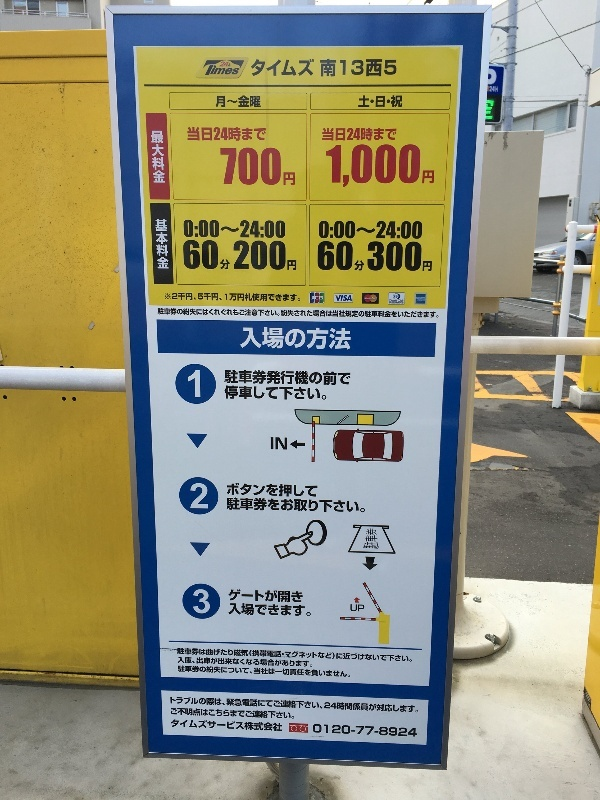text: (337, 144, 352, 189), (353, 144, 368, 189), (369, 144, 384, 189), (385, 144, 400, 189), (401, 144, 416, 189), (225, 148, 240, 186), (241, 148, 256, 186), (257, 148, 272, 186), (337, 240, 353, 272), (151, 130, 160, 184), (321, 240, 336, 272), (369, 241, 384, 272), (385, 241, 400, 272), (401, 241, 416, 272), (337, 325, 353, 354), (193, 240, 208, 270), (241, 240, 256, 270), (257, 240, 272, 270), (241, 325, 256, 354), (257, 325, 272, 354), (273, 325, 288, 354), (289, 325, 304, 354), (305, 325, 320, 354), (321, 325, 336, 354), (161, 218, 169, 270), (327, 144, 336, 189), (193, 483, 208, 510), (273, 240, 286, 270), (194, 588, 208, 615), (273, 148, 281, 186), (257, 58, 272, 78), (273, 58, 288, 78), (289, 58, 304, 78), (305, 58, 320, 78), (321, 58, 336, 78), (337, 58, 352, 78), (353, 58, 368, 78), (369, 58, 384, 78), (193, 368, 202, 401), (193, 220, 208, 239), (209, 220, 224, 239), (225, 220, 240, 239), (241, 220, 256, 239), (257, 220, 272, 239), (321, 221, 336, 240), (337, 221, 352, 240), (353, 221, 368, 240), (369, 221, 384, 240), (385, 221, 400, 240), (401, 221, 416, 240), (161, 130, 166, 184), (183, 240, 192, 270), (209, 240, 218, 270), (241, 497, 256, 515), (257, 497, 272, 515), (273, 497, 288, 515), (289, 497, 304, 515), (305, 497, 320, 515), (321, 497, 336, 515), (337, 497, 352, 515), (177, 648, 192, 666), (193, 648, 208, 666), (209, 648, 224, 666), (225, 648, 240, 666), (241, 648, 256, 666), (257, 648, 272, 666), (273, 648, 288, 666), (289, 648, 304, 666), (305, 648, 320, 666), (321, 648, 336, 666), (337, 648, 352, 666), (353, 648, 368, 666), (369, 648, 384, 666), (385, 648, 400, 666), (155, 218, 160, 270), (209, 60, 224, 77), (225, 60, 240, 77), (225, 370, 240, 387), (241, 370, 256, 387), (257, 370, 272, 387), (273, 370, 288, 387), (289, 370, 304, 387), (305, 370, 320, 387), (321, 370, 336, 387), (225, 385, 240, 402), (241, 385, 256, 402), (257, 385, 272, 402), (273, 385, 288, 402), (289, 385, 304, 402), (305, 385, 320, 402), (241, 603, 256, 620), (257, 603, 272, 620), (273, 603, 288, 620), (289, 603, 304, 620), (369, 528, 380, 551), (273, 220, 286, 239), (385, 58, 397, 78), (193, 126, 208, 142), (209, 126, 224, 142), (225, 126, 240, 142), (241, 126, 256, 142), (241, 482, 256, 498), (257, 482, 272, 498), (273, 482, 288, 498), (289, 482, 304, 498), (177, 717, 192, 733), (193, 717, 208, 733), (209, 717, 224, 733), (225, 717, 240, 733), (241, 717, 256, 733), (257, 717, 272, 733), (321, 723, 336, 739), (337, 723, 352, 739), (353, 723, 368, 739), (369, 723, 384, 739), (385, 723, 400, 739), (401, 723, 416, 739), (337, 370, 351, 387), (227, 497, 240, 515), (353, 497, 366, 515), (273, 436, 288, 451), (241, 588, 256, 603), (257, 588, 272, 603), (273, 588, 288, 603), (289, 588, 304, 603), (177, 666, 192, 681), (193, 666, 208, 681), (209, 666, 224, 681), (225, 666, 240, 681), (241, 666, 256, 681), (257, 666, 272, 681), (273, 666, 288, 681), (289, 666, 304, 681), (305, 666, 320, 681), (321, 666, 336, 681), (401, 648, 413, 666), (337, 128, 352, 142), (353, 128, 368, 142), (369, 128, 384, 142), (233, 240, 240, 270), (337, 666, 351, 681), (241, 697, 256, 711), (257, 697, 272, 711), (273, 697, 288, 711), (289, 697, 304, 711), (305, 697, 320, 711), (177, 707, 192, 721), (193, 707, 208, 721), (209, 707, 224, 721), (225, 707, 240, 721), (241, 707, 256, 721), (257, 707, 272, 721), (273, 707, 288, 721), (227, 482, 240, 498), (305, 482, 318, 498), (322, 128, 336, 142), (225, 95, 240, 108), (241, 95, 256, 108), (337, 701, 352, 714), (353, 701, 368, 714), (369, 701, 384, 714), (385, 701, 400, 714), (401, 701, 416, 714), (354, 259, 368, 272), (227, 697, 240, 711), (417, 144, 421, 189), (289, 309, 304, 321), (305, 309, 320, 321), (321, 309, 336, 321), (337, 309, 352, 321), (353, 309, 368, 321), (369, 309, 384, 321), (385, 309, 400, 321), (401, 309, 416, 321), (417, 309, 432, 321), (193, 656, 208, 668), (209, 656, 224, 668), (225, 656, 240, 668), (241, 656, 256, 668), (257, 656, 272, 668), (273, 656, 288, 668), (289, 656, 304, 668), (230, 603, 240, 620), (385, 128, 397, 142), (178, 656, 192, 668), (229, 588, 240, 603), (177, 696, 192, 707), (193, 696, 208, 707), (209, 696, 224, 707), (257, 126, 267, 142), (273, 717, 283, 733), (417, 241, 422, 272), (220, 148, 224, 186), (184, 220, 192, 239), (225, 293, 240, 303), (241, 293, 256, 303), (257, 293, 272, 303), (273, 293, 288, 303), (325, 701, 336, 714), (423, 170, 432, 185), (161, 308, 176, 317), (177, 308, 192, 317), (193, 308, 208, 317), (209, 308, 224, 317), (225, 308, 240, 317), (241, 308, 256, 317), (257, 308, 272, 317), (188, 368, 192, 401), (177, 293, 192, 301), (289, 293, 301, 303), (305, 603, 312, 620), (359, 95, 368, 108), (391, 95, 400, 108), (209, 293, 222, 302), (417, 221, 423, 240), (313, 723, 320, 739), (353, 604, 365, 613), (337, 295, 352, 302), (321, 385, 327, 402), (251, 58, 256, 78), (423, 261, 432, 272), (376, 96, 384, 108), (305, 656, 313, 668), (217, 95, 224, 108), (198, 293, 208, 302), (289, 260, 297, 271), (289, 172, 295, 186), (281, 309, 288, 321), (289, 707, 295, 721), (171, 717, 176, 733), (433, 309, 439, 321), (171, 707, 176, 721), (188, 126, 192, 142), (318, 240, 320, 272), (273, 308, 280, 317), (284, 172, 288, 186), (225, 259, 230, 270), (171, 696, 176, 707), (209, 588, 211, 615), (257, 95, 261, 108), (230, 63, 240, 68), (310, 296, 320, 301), (417, 299, 432, 302), (220, 259, 224, 270), (390, 299, 400, 303), (225, 61, 230, 68), (206, 60, 208, 77), (241, 60, 243, 77), (172, 293, 176, 301), (193, 293, 197, 301), (369, 297, 377, 301), (433, 170, 435, 185), (270, 436, 272, 451), (321, 697, 323, 711), (417, 297, 426, 300), (191, 483, 192, 510), (401, 95, 403, 108), (417, 701, 419, 714), (367, 528, 368, 551), (389, 302, 400, 304), (221, 61, 224, 68), (319, 221, 320, 240), (158, 308, 160, 317), (350, 604, 352, 613), (417, 723, 418, 739), (321, 296, 324, 301), (369, 95, 370, 108), (365, 297, 368, 301), (401, 299, 404, 303), (225, 696, 226, 707), (398, 299, 400, 303), (335, 295, 336, 302), (401, 302, 404, 304)
